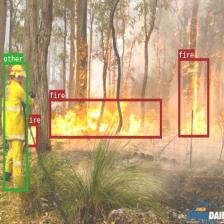fire: (49, 99, 161, 138), (178, 58, 209, 137), (24, 123, 38, 147)
